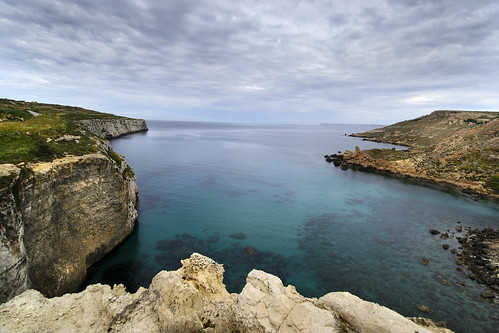sea: (129, 116, 449, 332)
sky: (1, 1, 491, 105)
